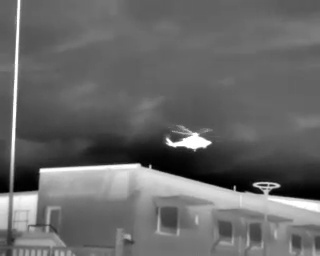HELICOPTER: (161, 120, 220, 158)
